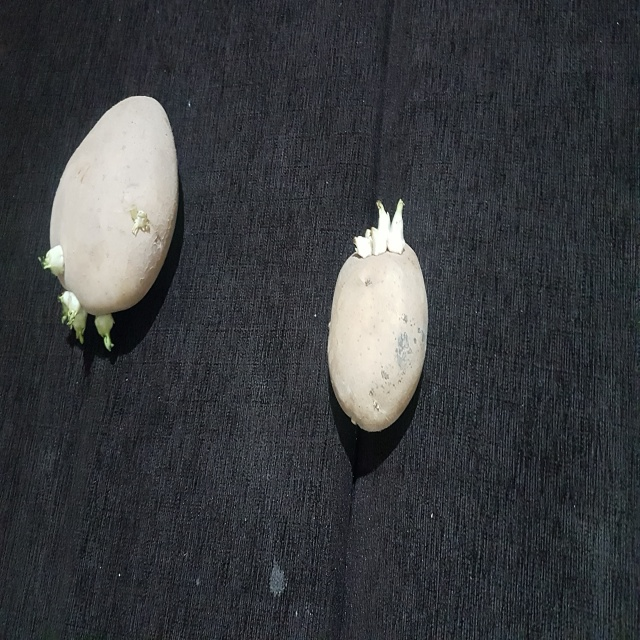potato: (43, 81, 204, 356), (317, 202, 444, 443)
